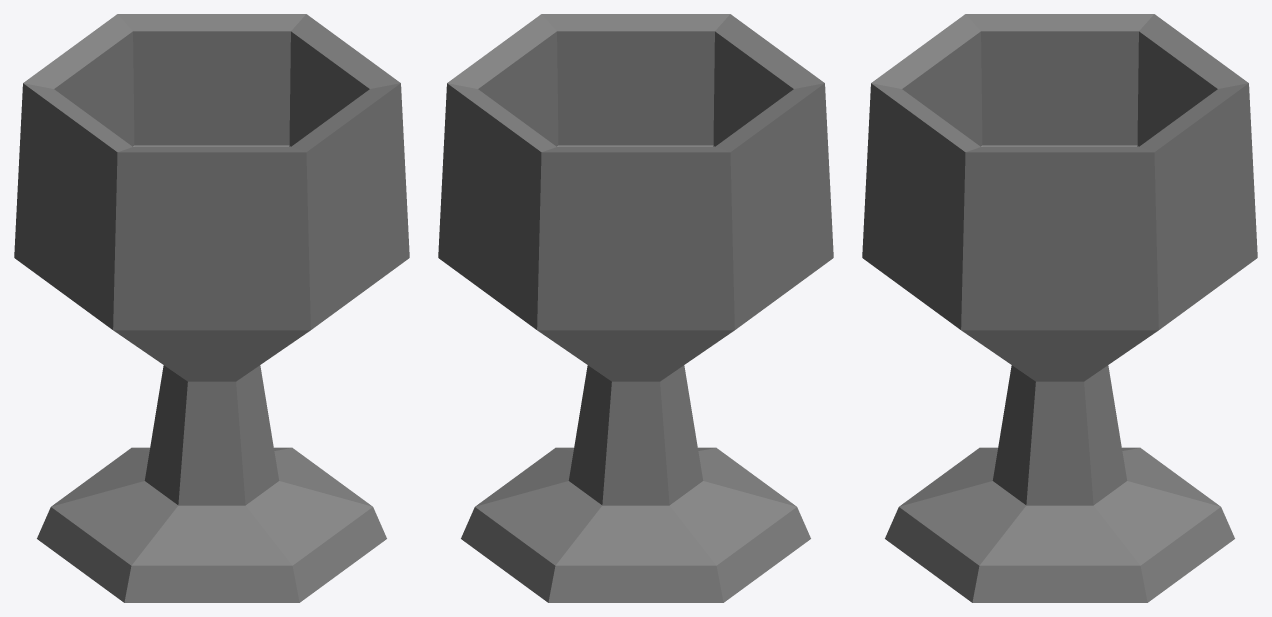
The model's file is Cup.gltf.
The picture shows the model from 3 angles, left to right: view 1: azimuth 30°, elevation 25°; view 2: azimuth 150°, elevation 25°; view 3: azimuth 270°, elevation 25°; orthographic projection.
Visible parts, largest first — view 1: Cup2; view 2: Cup2; view 3: Cup2.
Boxes of the visible parts, box(x1,y1,x2,y2) form: Cup2: box(14, 14, 409, 602); Cup2: box(438, 14, 833, 602); Cup2: box(862, 14, 1257, 602).
Bounding box in the file's own units: 0.0294 × 0.0431 × 0.0339.
1 material, 1 textured.
